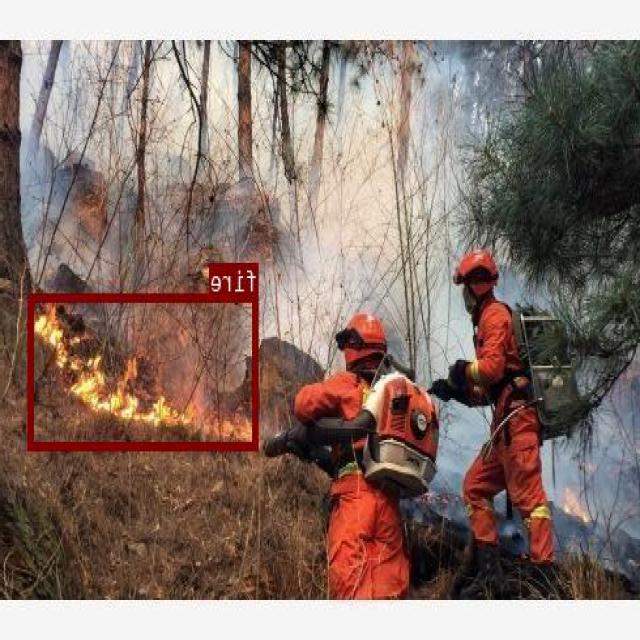fire: (29, 292, 259, 448)
